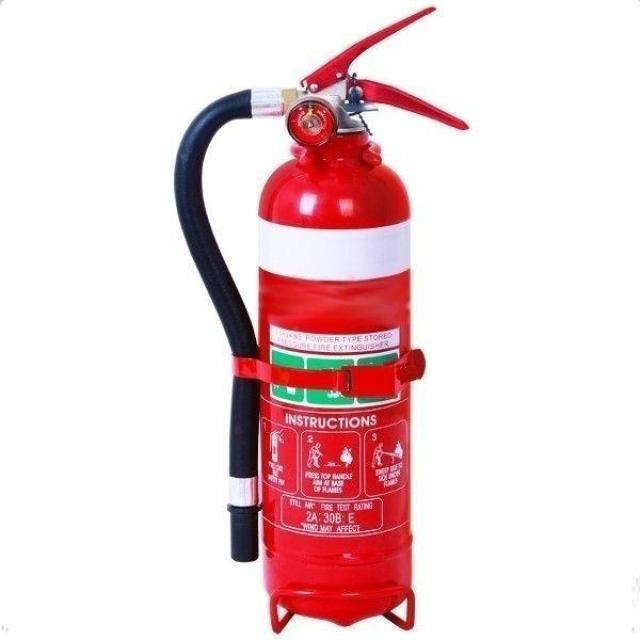Fire-Extinguisher: (174, 4, 471, 636)
